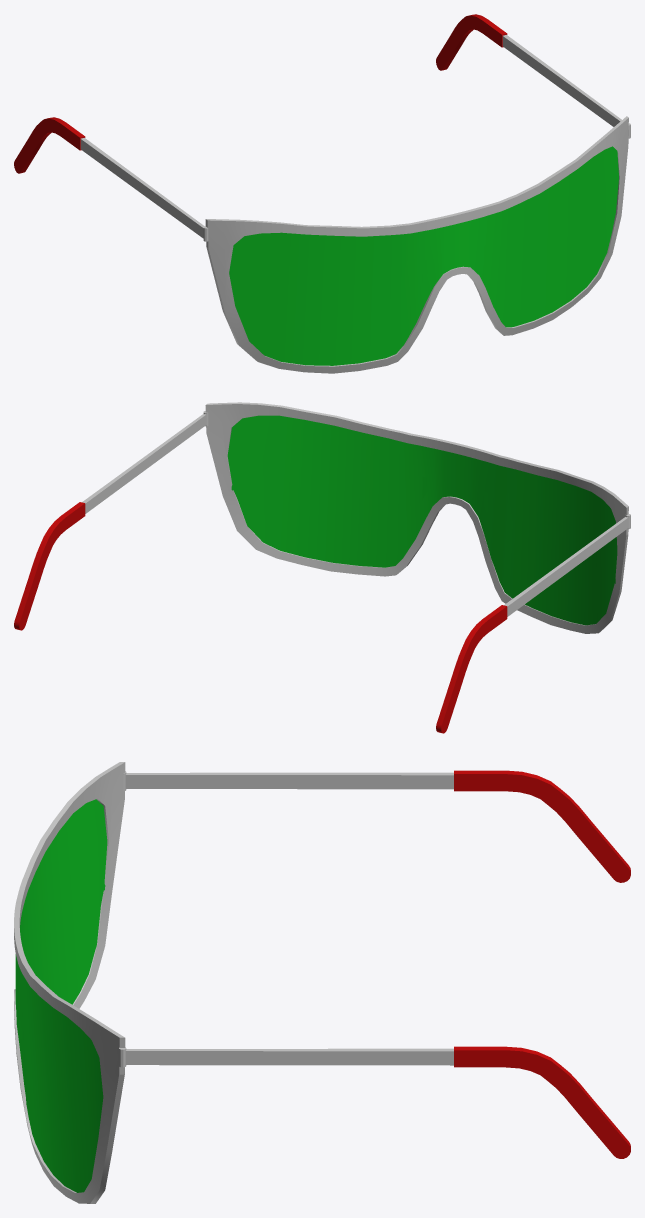
Rendered from glasses24.001.obj.
The picture shows the model from 3 angles, top to bottom: view 1: azimuth 30°, elevation 25°; view 2: azimuth 150°, elevation 25°; view 3: azimuth 270°, elevation 25°; orthographic projection. The views are drawn at different scales.
Visible parts, largest first — view 1: glasses24.001_glasses24.001_Material.006, glasses24.001_glasses24.001_black, glasses24.001_glasses24.001_Material.003; view 2: glasses24.001_glasses24.001_Material.006, glasses24.001_glasses24.001_black, glasses24.001_glasses24.001_Material.003; view 3: glasses24.001_glasses24.001_Material.006, glasses24.001_glasses24.001_black, glasses24.001_glasses24.001_Material.003.
Boxes of the visible parts, x1,y1,x2,y2 form: glasses24.001_glasses24.001_Material.006: (229,146,618,365); glasses24.001_glasses24.001_black: (80,35,630,373); glasses24.001_glasses24.001_Material.003: (14,14,507,173); glasses24.001_glasses24.001_Material.006: (227,415,617,625); glasses24.001_glasses24.001_black: (82,402,630,633); glasses24.001_glasses24.001_Material.003: (14,502,507,733); glasses24.001_glasses24.001_Material.006: (15,799,107,1192); glasses24.001_glasses24.001_black: (14,762,453,1203); glasses24.001_glasses24.001_Material.003: (454,770,630,1158).
Size of the model in its own units: 2.09 by 0.7497 by 1.95.
